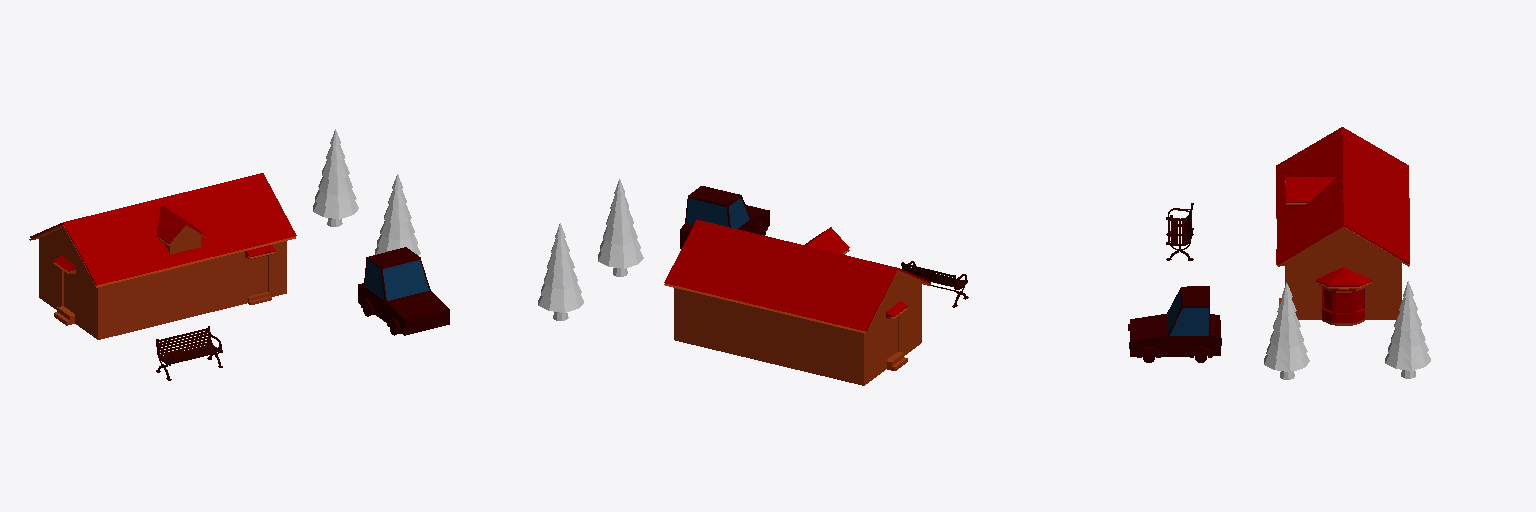
Rendered from casa.obj.
The picture shows the model from 3 angles: view 1: azimuth 30°, elevation 25°; view 2: azimuth 150°, elevation 25°; view 3: azimuth 270°, elevation 25°; orthographic projection.
Parts seen in each view (by area): view 1: Cube_Cube.000, Cube_Cube.002, Cabin_default, Cylinder.002, Cylinder.000_Cylinder.003, glass_default_glass_default.001, LoD_1; view 2: Cube_Cube.002, Cube_Cube.000, Cylinder.000_Cylinder.003, Cylinder.002, Cabin_default, glass_default_glass_default.001, LoD_1; view 3: Cube_Cube.002, Cube_Cube.000, Cabin_default, Cylinder.002, Cylinder.000_Cylinder.003, glass_default_glass_default.001, LoD_1.
Boxes of the visible parts, <box> form: Cube_Cube.000: <box>29,225,295,339</box>; Cube_Cube.002: <box>30,173,296,285</box>; Cabin_default: <box>358,247,449,335</box>; Cylinder.002: <box>313,129,358,226</box>; Cylinder.000_Cylinder.003: <box>375,174,420,255</box>; glass_default_glass_default.001: <box>365,260,428,300</box>; LoD_1: <box>156,326,222,380</box>; Cube_Cube.002: <box>664,220,930,331</box>; Cube_Cube.000: <box>664,249,930,385</box>; Cylinder.000_Cylinder.003: <box>598,179,643,276</box>; Cylinder.002: <box>538,223,583,320</box>; Cabin_default: <box>680,186,769,248</box>; glass_default_glass_default.001: <box>686,198,749,228</box>; LoD_1: <box>901,261,968,307</box>; Cube_Cube.002: <box>1276,127,1409,322</box>; Cube_Cube.000: <box>1276,180,1409,325</box>; Cabin_default: <box>1130,286,1220,357</box>; Cylinder.002: <box>1385,281,1430,378</box>; Cylinder.000_Cylinder.003: <box>1264,282,1309,379</box>; glass_default_glass_default.001: <box>1167,291,1208,335</box>; LoD_1: <box>1166,203,1193,260</box>.
Size of the model in its own units: 10.48 by 3.06 by 8.35.